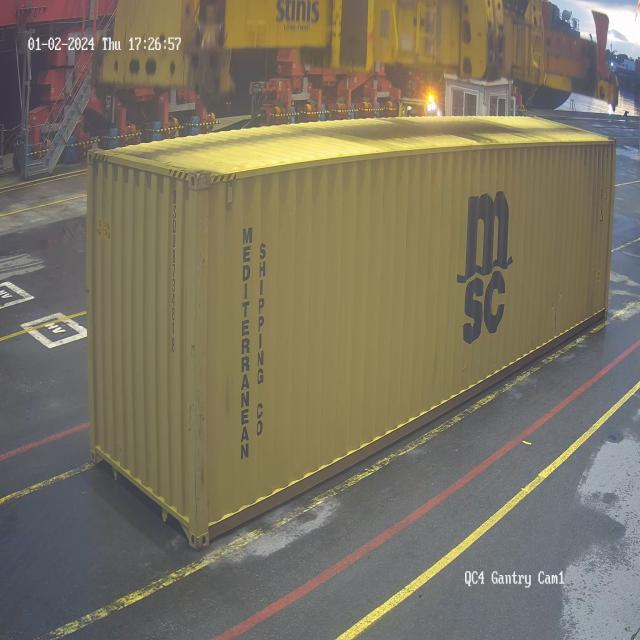dent: (550, 290, 573, 315)
